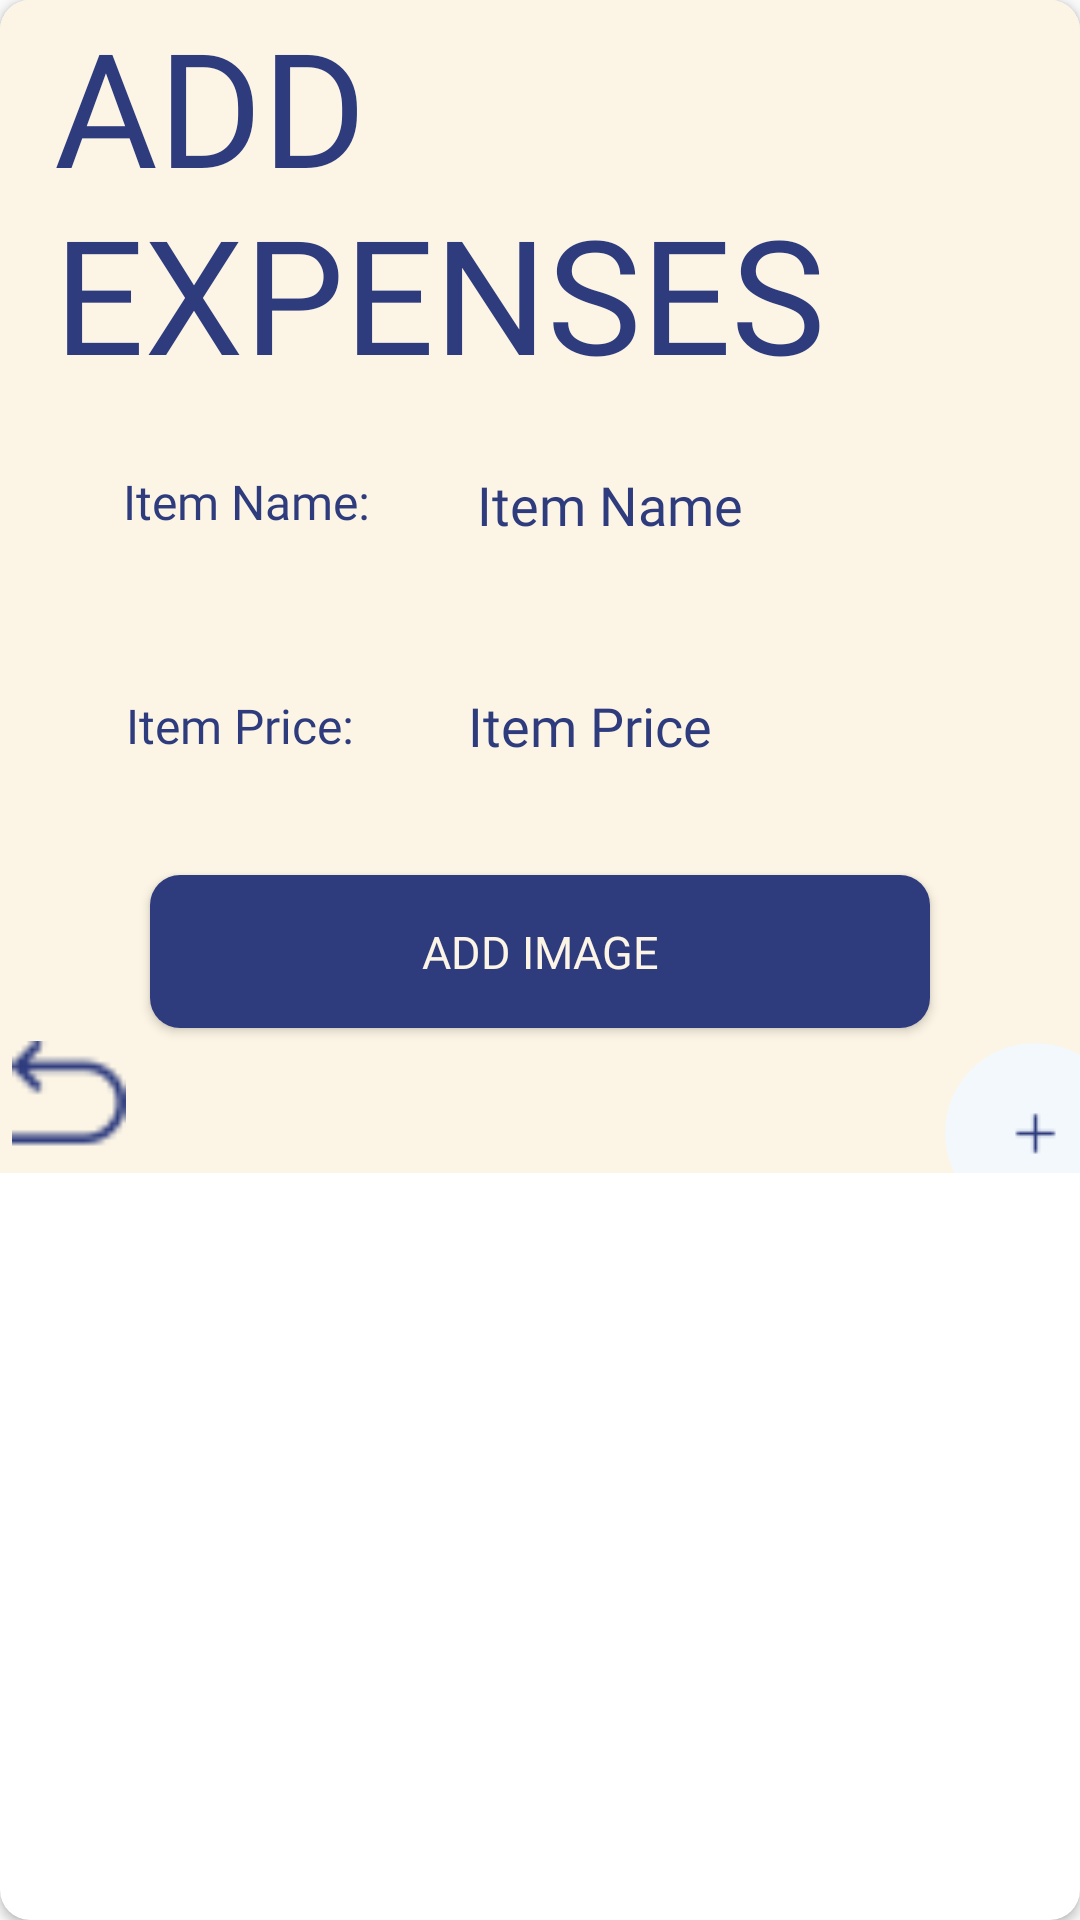

Named icons in this screenshot (1080w x 1920h) and their bounding boxes, (x1, y1, x2, y2):
returnsigma: (12, 1041, 126, 1146)
